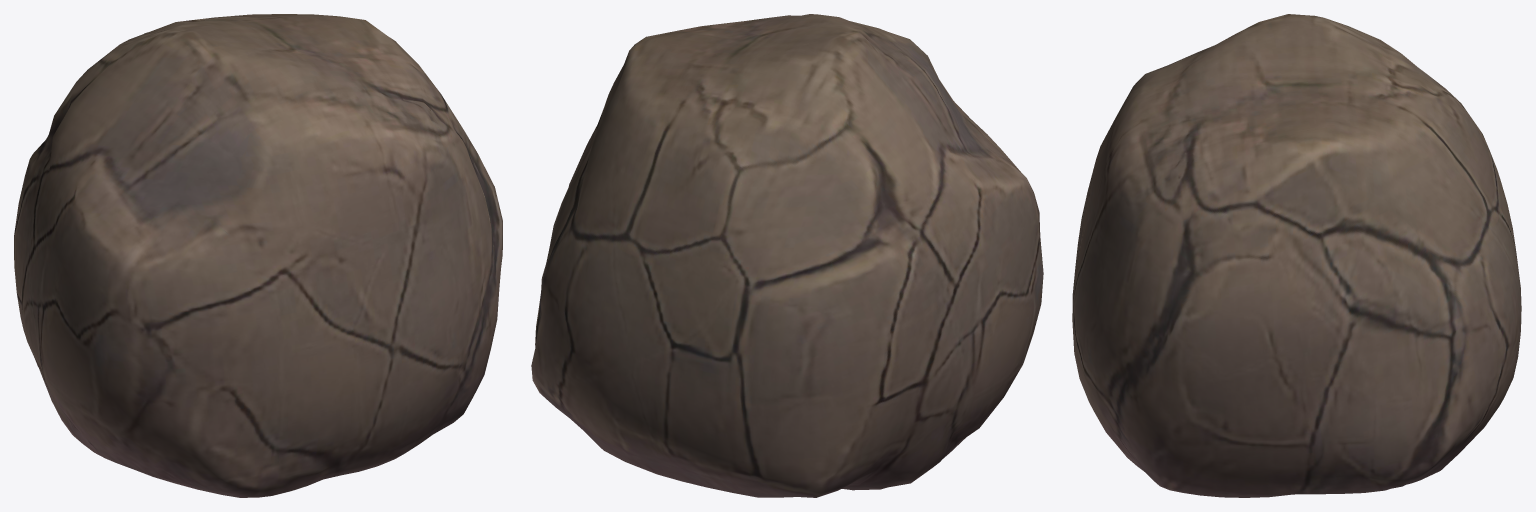
File: stylized_rock_ball_(2).glb
3 views of the same model, side by side, from view 1: azimuth 30°, elevation 25°; view 2: azimuth 150°, elevation 25°; view 3: azimuth 270°, elevation 25° (orthographic). The views are drawn at different scales.
Visible parts, largest first — view 1: mesh; view 2: mesh; view 3: mesh.
Boxes of the visible parts, left/top/right/bottom form: mesh: left=14, top=14, right=502, bottom=497; mesh: left=531, top=14, right=1043, bottom=497; mesh: left=1072, top=14, right=1521, bottom=497.
Bounding box in the file's own units: 0.9975 × 0.9409 × 0.9609.
Materials: 1 (1 with a texture image).
